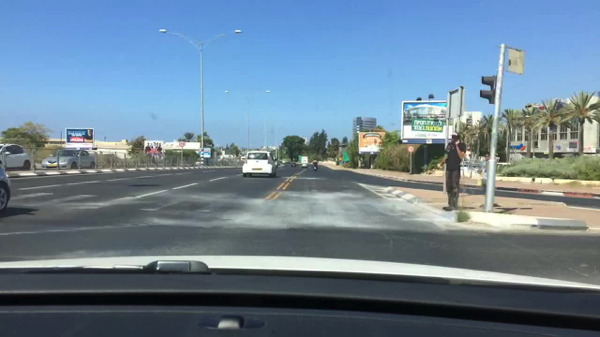car: (41, 147, 96, 170), (241, 151, 278, 178), (0, 143, 33, 172), (0, 168, 12, 215), (301, 156, 309, 164), (301, 162, 308, 167)
person: (437, 128, 467, 212)
rider: (312, 160, 318, 167), (313, 165, 319, 172), (291, 158, 296, 163), (292, 162, 296, 168)
traffic light: (480, 75, 496, 104)
traffic sign: (446, 86, 465, 117), (507, 47, 524, 75), (342, 151, 350, 162), (408, 147, 416, 153), (179, 141, 186, 147), (298, 155, 301, 162)
